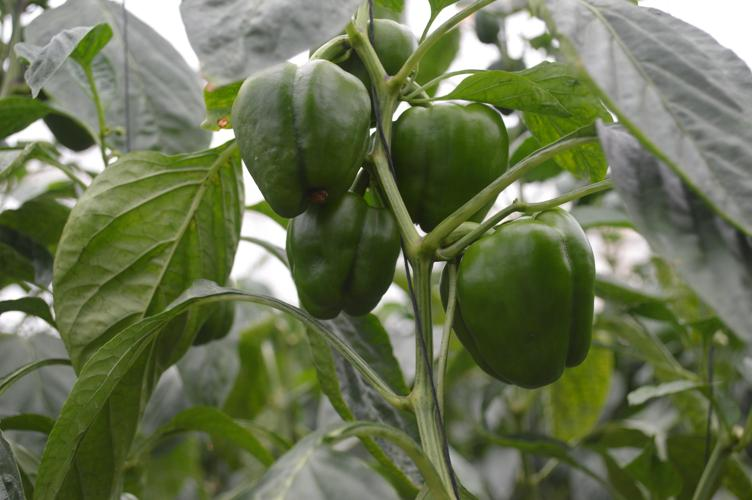BellPepper: (429, 203, 617, 385), (378, 91, 523, 242), (230, 57, 364, 212), (270, 187, 400, 312), (328, 20, 436, 114)
